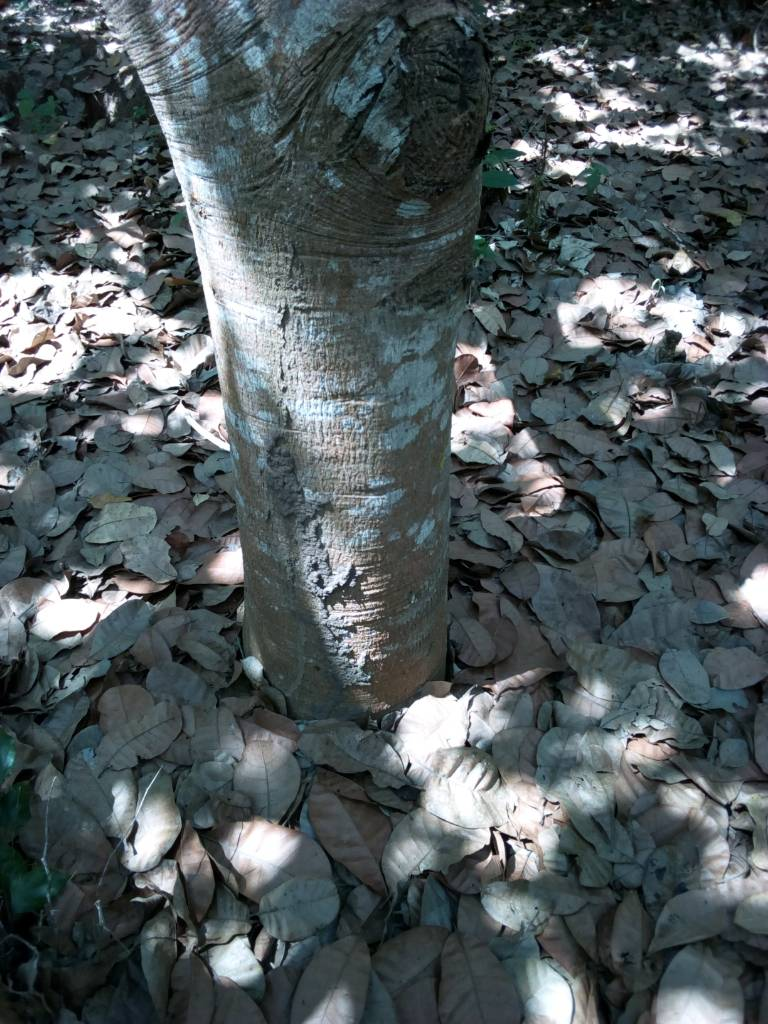Termites: (265, 417, 394, 685)
